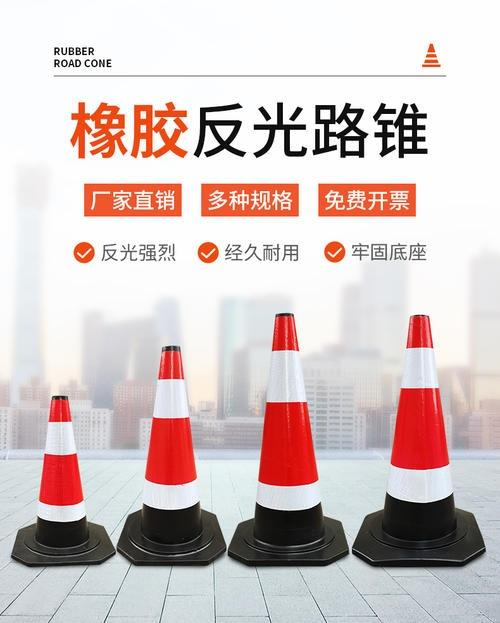cone_barrel: (360, 314, 473, 553), (235, 314, 338, 558), (126, 346, 214, 557), (22, 394, 100, 561)
